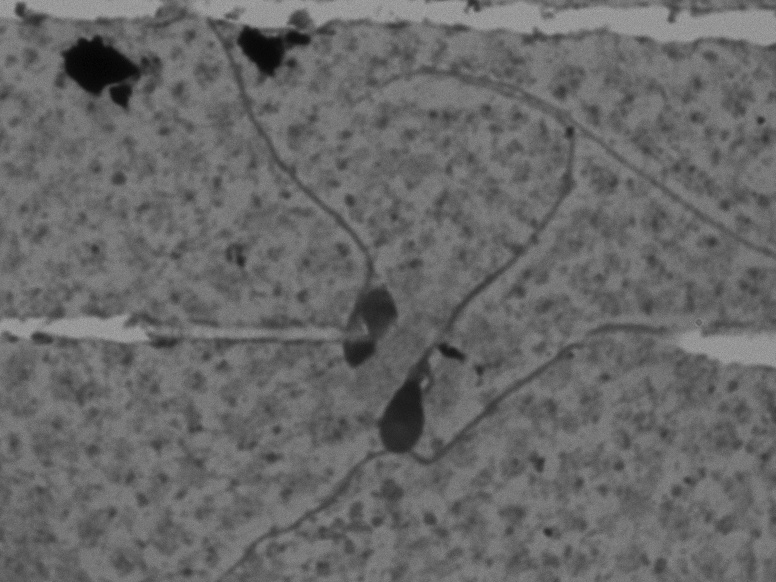Abnormal: (331, 57, 609, 469), (191, 3, 419, 380)
